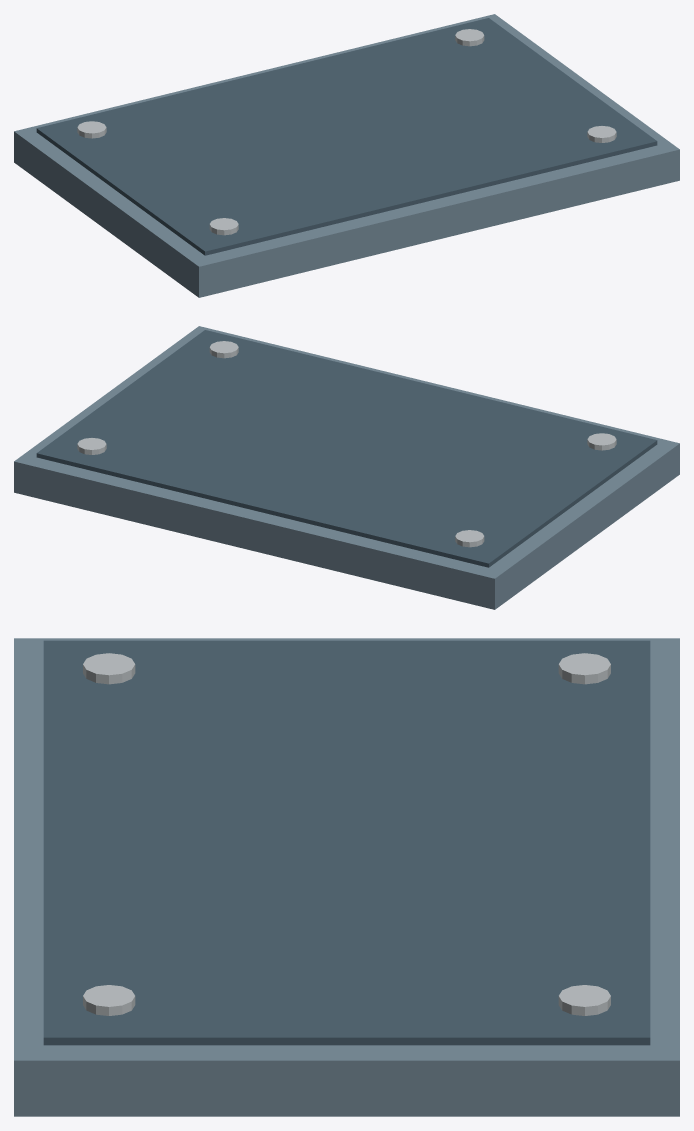
Rendered from 02_L80_CompletedFourChipletPackageCarrier.glb.
3 views of the same model, one above another, from view 1: azimuth 30°, elevation 25°; view 2: azimuth 150°, elevation 25°; view 3: azimuth 270°, elevation 25° (orthographic). The views are drawn at different scales.
Visible parts, largest first — view 1: CompletedFourChipletPackageCarrier_Node_0001, CompletedFourChipletPackageCarrier_Node_0000, CompletedFourChipletPackageCarrier_Node_0002, CompletedFourChipletPackageCarrier_Node_0003, CompletedFourChipletPackageCarrier_Node_0004, CompletedFourChipletPackageCarrier_Node_0005; view 2: CompletedFourChipletPackageCarrier_Node_0001, CompletedFourChipletPackageCarrier_Node_0000, CompletedFourChipletPackageCarrier_Node_0003, CompletedFourChipletPackageCarrier_Node_0002, CompletedFourChipletPackageCarrier_Node_0005, CompletedFourChipletPackageCarrier_Node_0004; view 3: CompletedFourChipletPackageCarrier_Node_0001, CompletedFourChipletPackageCarrier_Node_0000, CompletedFourChipletPackageCarrier_Node_0002, CompletedFourChipletPackageCarrier_Node_0003, CompletedFourChipletPackageCarrier_Node_0004, CompletedFourChipletPackageCarrier_Node_0005.
Boxes of the visible parts, box(x1,y1,x2,y2) form: CompletedFourChipletPackageCarrier_Node_0001: box(36, 18, 657, 255); CompletedFourChipletPackageCarrier_Node_0000: box(14, 14, 679, 297); CompletedFourChipletPackageCarrier_Node_0002: box(77, 121, 106, 138); CompletedFourChipletPackageCarrier_Node_0003: box(209, 218, 238, 235); CompletedFourChipletPackageCarrier_Node_0004: box(455, 29, 484, 46); CompletedFourChipletPackageCarrier_Node_0005: box(587, 126, 616, 142); CompletedFourChipletPackageCarrier_Node_0001: box(36, 330, 657, 567); CompletedFourChipletPackageCarrier_Node_0000: box(14, 326, 679, 609); CompletedFourChipletPackageCarrier_Node_0003: box(587, 433, 616, 450); CompletedFourChipletPackageCarrier_Node_0002: box(455, 530, 484, 547); CompletedFourChipletPackageCarrier_Node_0005: box(209, 341, 238, 358); CompletedFourChipletPackageCarrier_Node_0004: box(77, 438, 106, 454); CompletedFourChipletPackageCarrier_Node_0001: box(43, 640, 650, 1045); CompletedFourChipletPackageCarrier_Node_0000: box(14, 638, 679, 1116); CompletedFourChipletPackageCarrier_Node_0002: box(558, 653, 610, 684); CompletedFourChipletPackageCarrier_Node_0003: box(83, 653, 135, 684); CompletedFourChipletPackageCarrier_Node_0004: box(558, 985, 610, 1015); CompletedFourChipletPackageCarrier_Node_0005: box(83, 985, 135, 1015).
Size of the model in its own units: 4.2 by 0.35 by 2.8.
